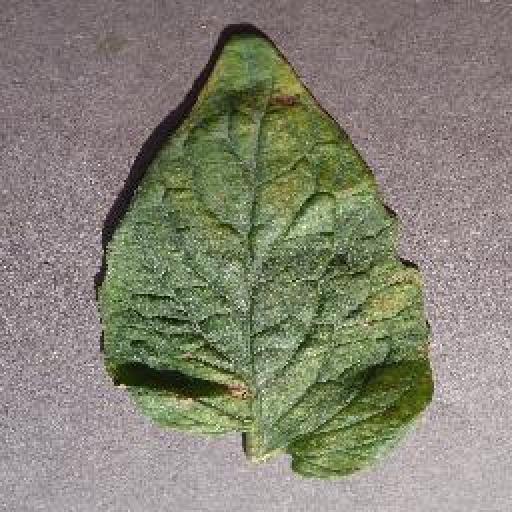disease_tomato: (96, 29, 436, 479)
